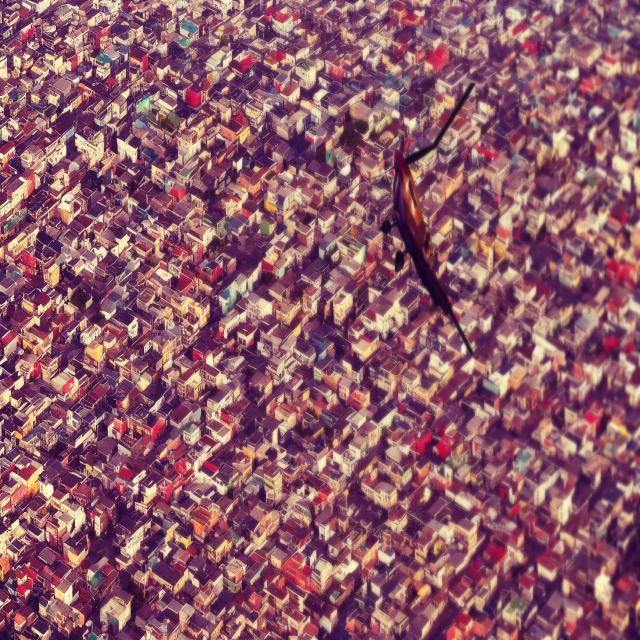airplane: (379, 81, 476, 355)
